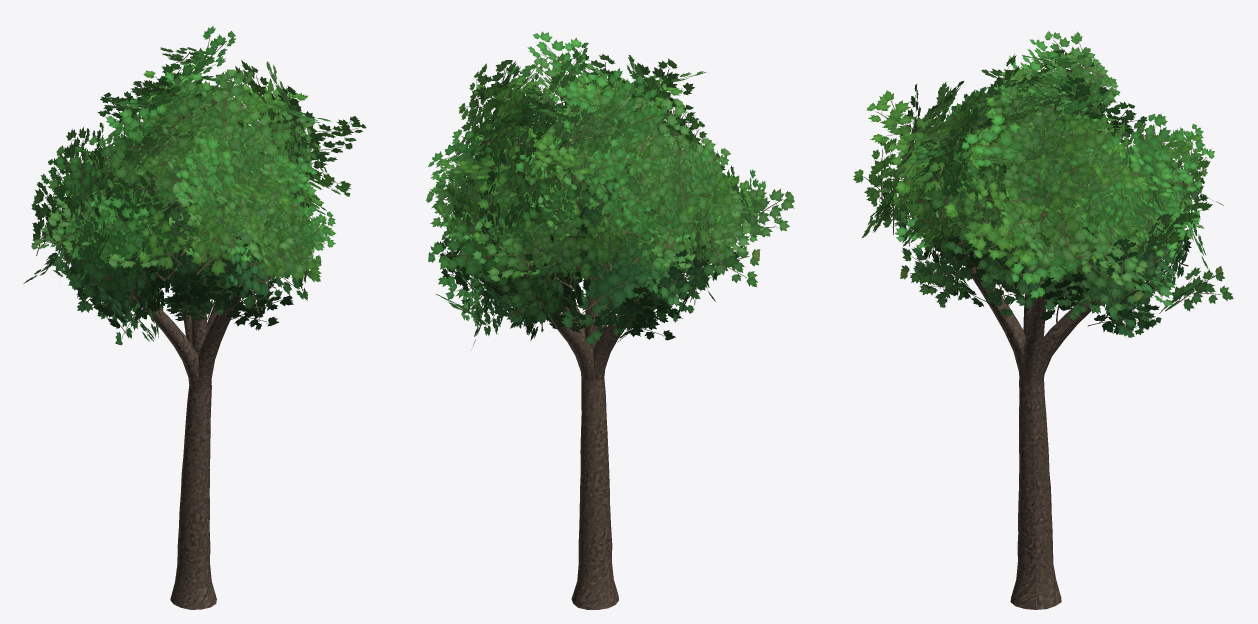
File: arbol_platano_400.glb
3 renders of one model, left to right at view 1: azimuth 30°, elevation 25°; view 2: azimuth 150°, elevation 25°; view 3: azimuth 270°, elevation 25°, orthographic. The views are drawn at different scales.
Parts seen in each view (by area): view 1: arbol_platano_400; view 2: arbol_platano_400; view 3: arbol_platano_400.
Boxes of the visible parts, x1,y1,x2,y2 form: arbol_platano_400: [23, 26, 366, 609]; arbol_platano_400: [426, 31, 794, 609]; arbol_platano_400: [853, 31, 1233, 609].
Size of the model in its own units: 2.5 by 3.95 by 2.5.
Materials: 2 (2 with a texture image).
